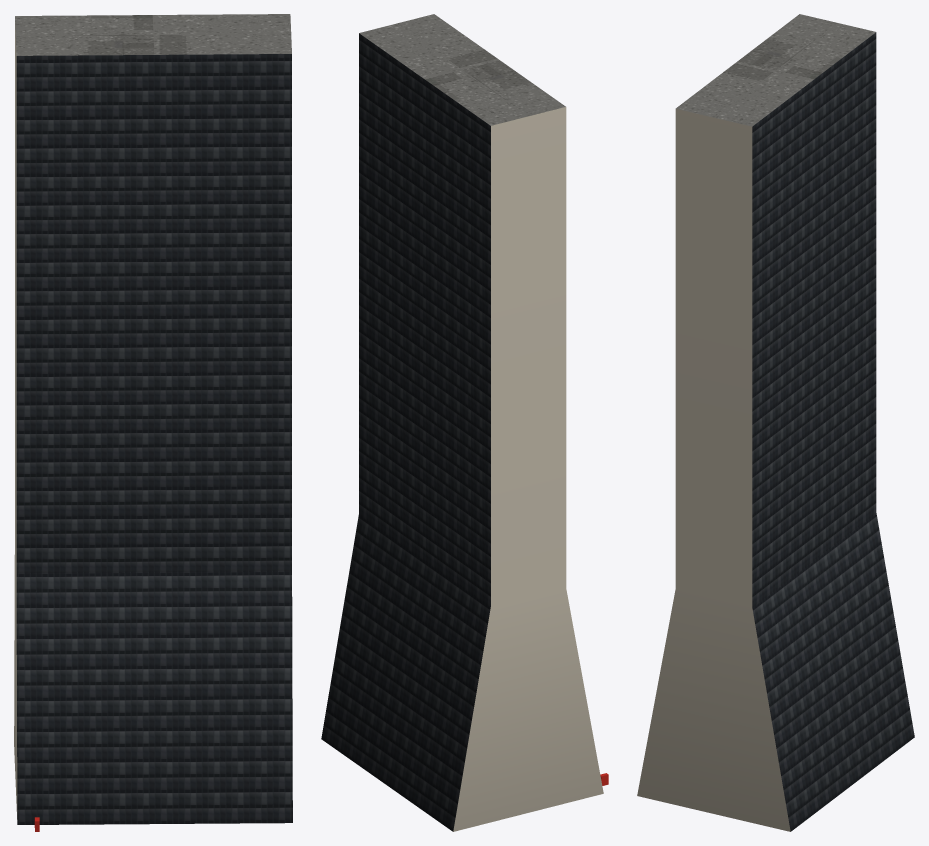
File: solow.glb
3 views of the same model, side by side, from view 1: azimuth 30°, elevation 25°; view 2: azimuth 150°, elevation 25°; view 3: azimuth 270°, elevation 25° (orthographic). The views are drawn at different scales.
Visible parts, largest first — view 1: solow; view 2: solow; view 3: solow.
Part boxes in pixels (left/top/right/bottom): solow: left=14, top=14, right=292, bottom=831; solow: left=321, top=14, right=608, bottom=831; solow: left=637, top=14, right=914, bottom=831.
Size of the model in its own units: 84.49 by 210 by 75.92.
7 materials, 4 textured.
